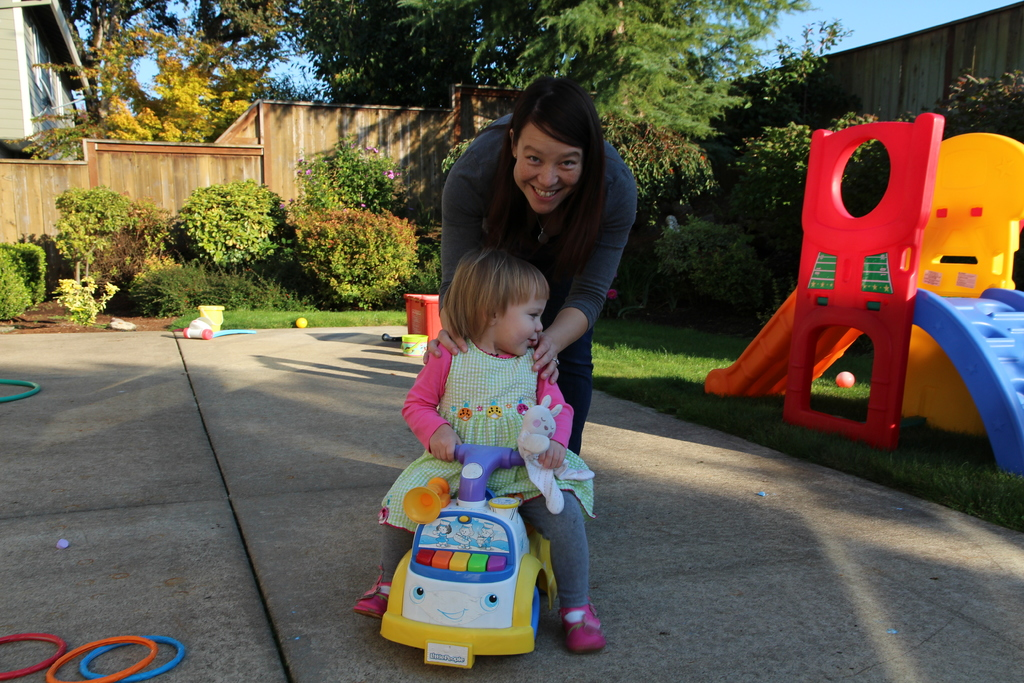Human-face: (515, 124, 581, 213), (499, 296, 545, 358)
